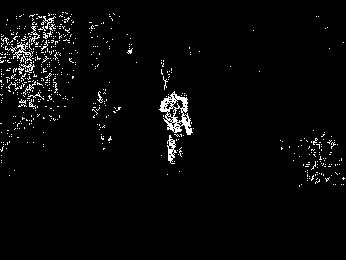person: (151, 87, 195, 173)
